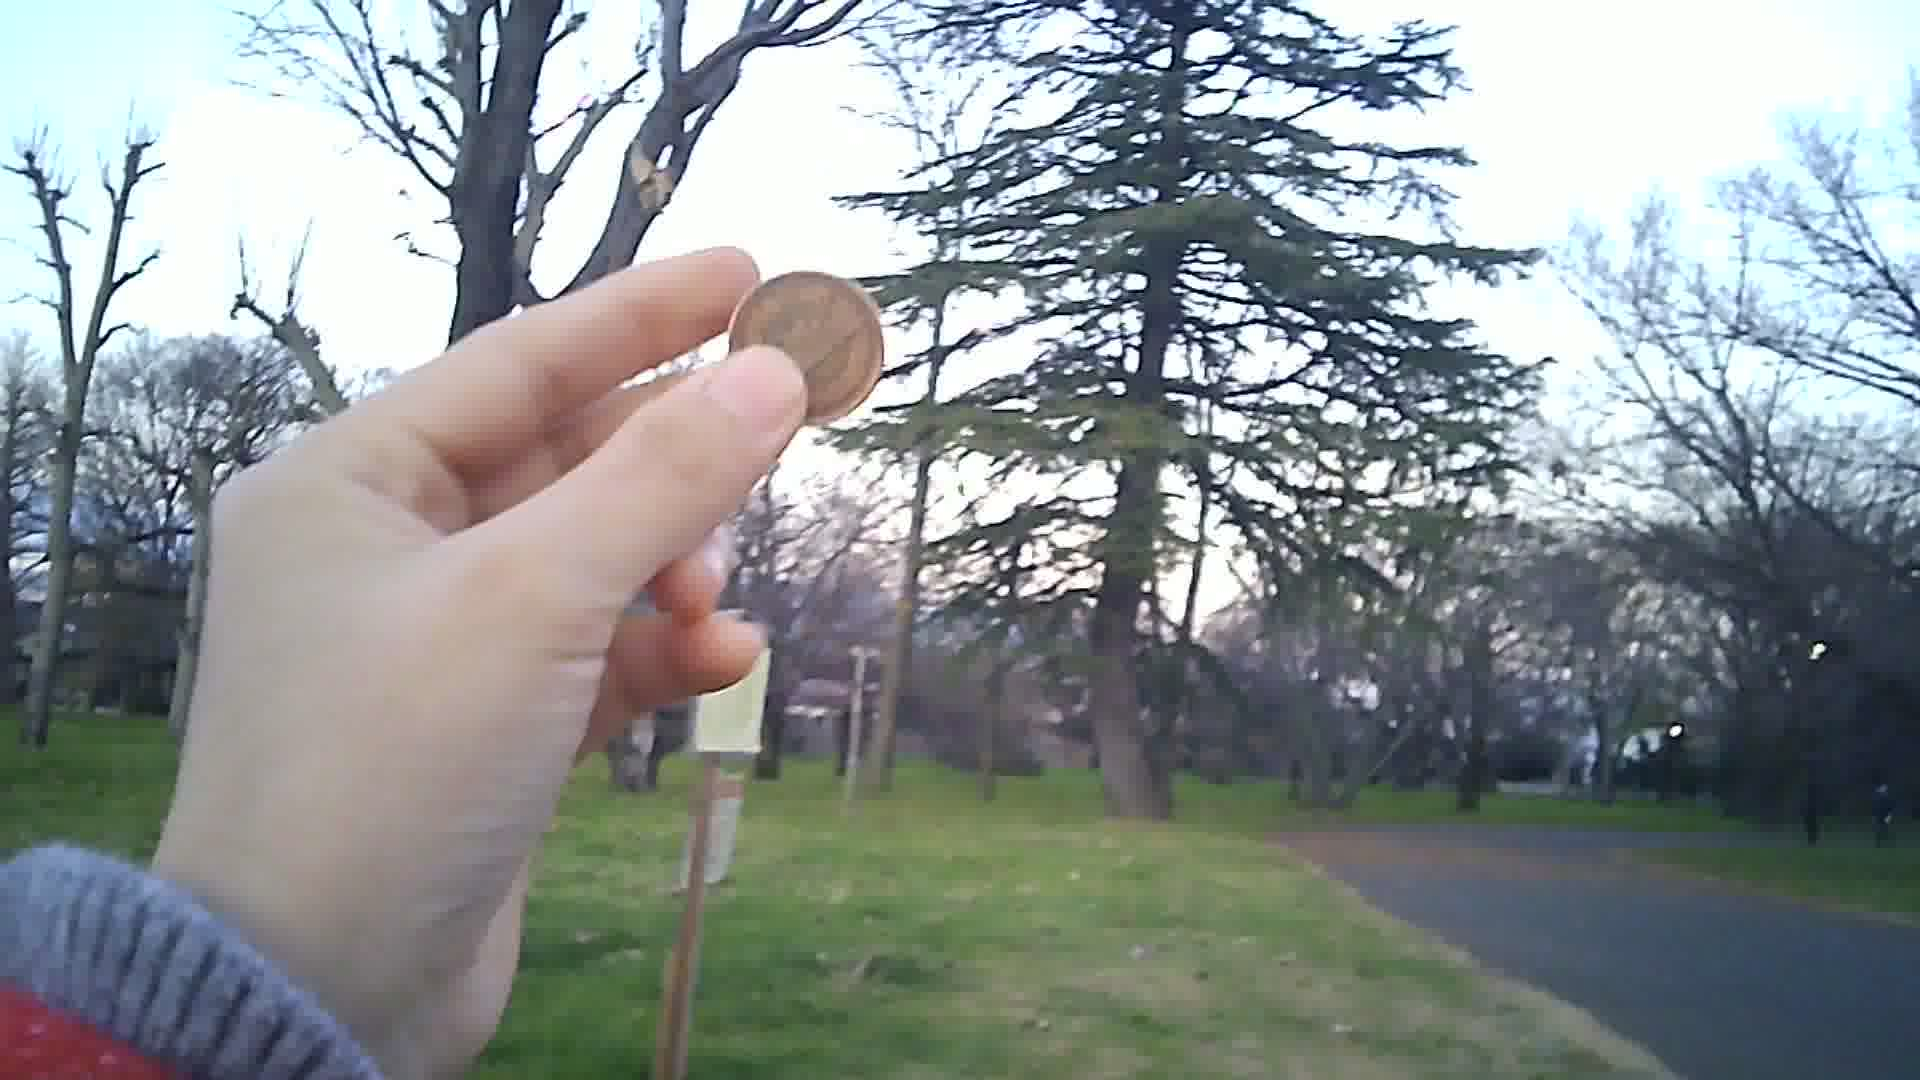10 Yen: (731, 270, 895, 427)
